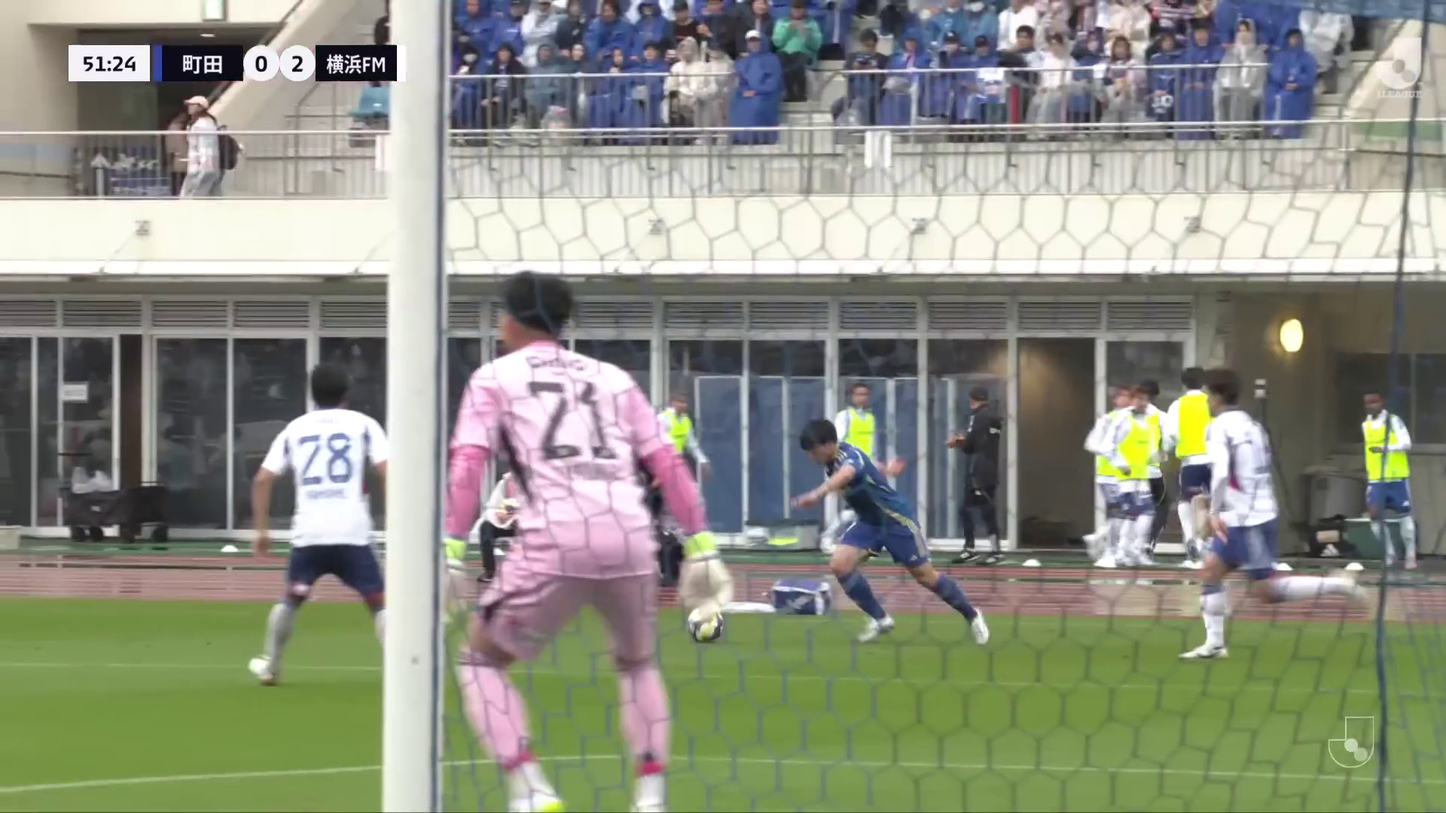ball: (684, 608, 725, 643)
player: (427, 266, 723, 813), (1172, 362, 1374, 667), (789, 419, 992, 649), (247, 380, 392, 690)
